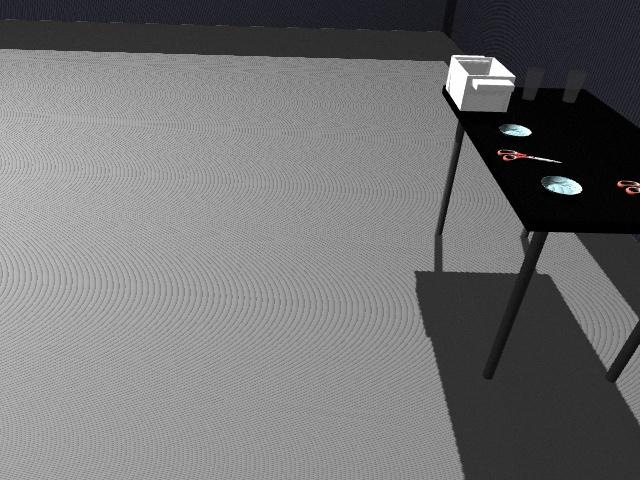cup: (562, 69, 588, 105), (522, 66, 545, 101)
plate: (540, 175, 584, 195), (499, 123, 532, 136)
scissors: (498, 148, 559, 164), (615, 181, 638, 194)
